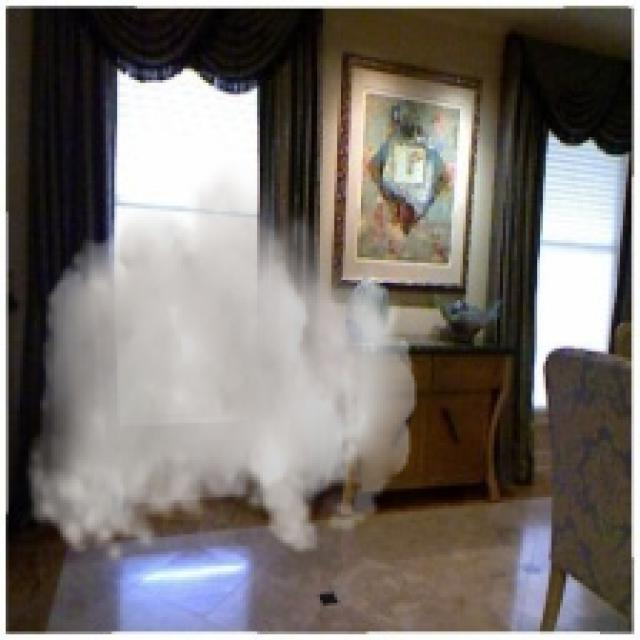Smoke: (26, 157, 417, 569)
